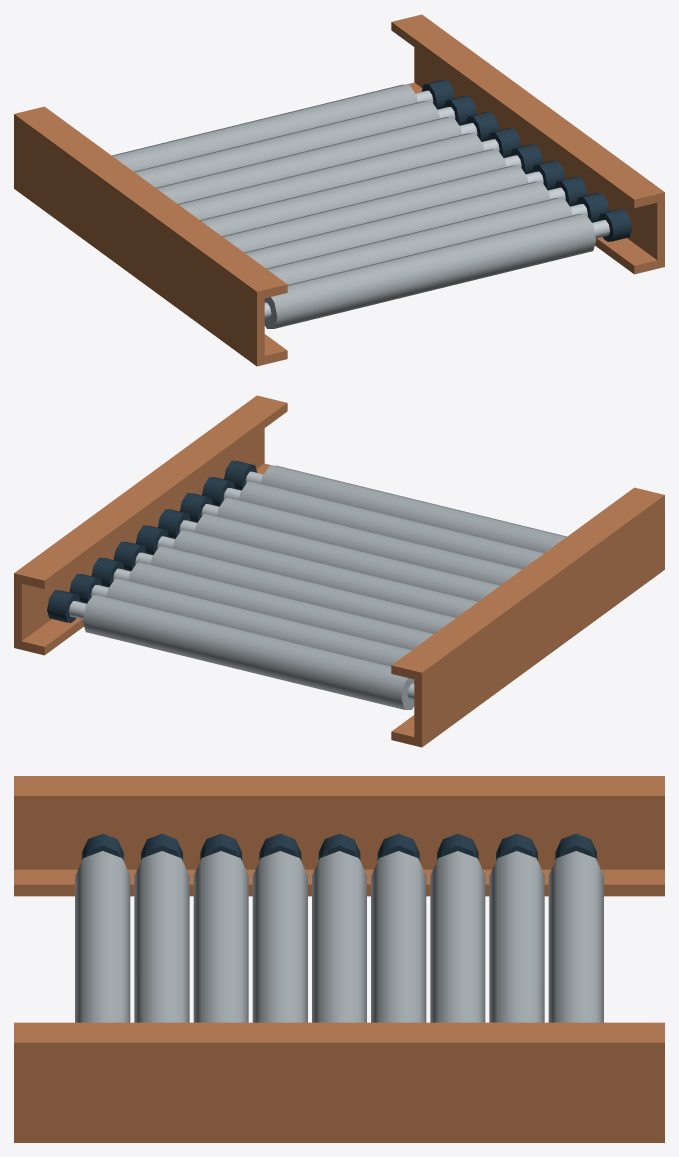
File: intake-roller-assembly.glb
3 renders of one model, top to bottom at view 1: azimuth 30°, elevation 25°; view 2: azimuth 150°, elevation 25°; view 3: azimuth 270°, elevation 25°, orthographic. The views are drawn at different scales.
Visible parts, largest first — view 1: Left Folded channel, Right Folded channel, Roller 9, Roller 7, Roller 1, Roller 2, Roller 4, Roller 5, Roller 6, Roller 8, Roller 3, Right Bearing seat 9 (+8 smaller); view 2: Left Folded channel, Right Folded channel, Roller 1, Roller 3, Roller 9, Roller 2, Roller 4, Roller 5, Roller 6, Roller 8, Roller 7, Right Bearing seat 1 (+8 smaller); view 3: Right Folded channel, Left Folded channel, Roller 4, Roller 6, Roller 1, Roller 9, Roller 3, Roller 7, Roller 2, Roller 8, Roller 5, Left Bearing seat 4 (+8 smaller).
Boxes of the visible parts, x1,y1,x2,y2 form: Left Folded channel: (14, 106, 287, 366); Right Folded channel: (391, 14, 664, 274); Roller 9: (264, 214, 596, 328); Roller 7: (244, 181, 550, 268); Roller 1: (112, 84, 417, 171); Roller 2: (134, 100, 439, 187); Roller 4: (178, 133, 483, 219); Roller 5: (200, 149, 506, 236); Roller 6: (222, 165, 528, 252); Roller 8: (266, 197, 572, 284); Roller 3: (156, 117, 461, 203); Right Bearing seat 9: (598, 209, 631, 241); Left Folded channel: (391, 487, 664, 747); Right Folded channel: (14, 395, 287, 655); Roller 1: (82, 595, 414, 709); Roller 3: (128, 562, 434, 649); Roller 9: (261, 465, 566, 552); Roller 2: (106, 578, 412, 665); Roller 4: (150, 546, 456, 633); Roller 5: (172, 530, 478, 617); Roller 6: (195, 514, 500, 600); Roller 8: (239, 481, 544, 568); Roller 7: (217, 498, 522, 584); Right Bearing seat 1: (47, 590, 80, 622); Right Folded channel: (14, 1022, 664, 1142); Left Folded channel: (14, 776, 664, 896); Roller 4: (371, 851, 426, 1022); Roller 6: (252, 851, 307, 1022); Roller 1: (548, 851, 603, 1022); Roller 9: (75, 851, 130, 1022); Roller 3: (430, 851, 485, 1022); Roller 7: (193, 851, 248, 1022); Roller 2: (489, 851, 544, 1022); Roller 8: (134, 851, 189, 1022); Roller 5: (312, 851, 366, 1022); Left Bearing seat 4: (377, 833, 419, 860).
Bounding box in the file's own units: 1.6 × 0.28 × 1.65.
